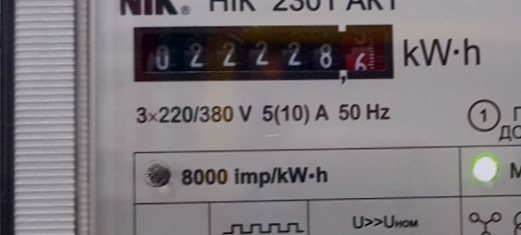0: (154, 40, 170, 69)
2: (187, 37, 206, 67), (286, 37, 304, 66), (253, 36, 271, 64), (221, 37, 238, 66)
5: (353, 24, 368, 44)
6: (353, 47, 369, 68)
8: (318, 39, 334, 67)
screen: (125, 10, 404, 89)
